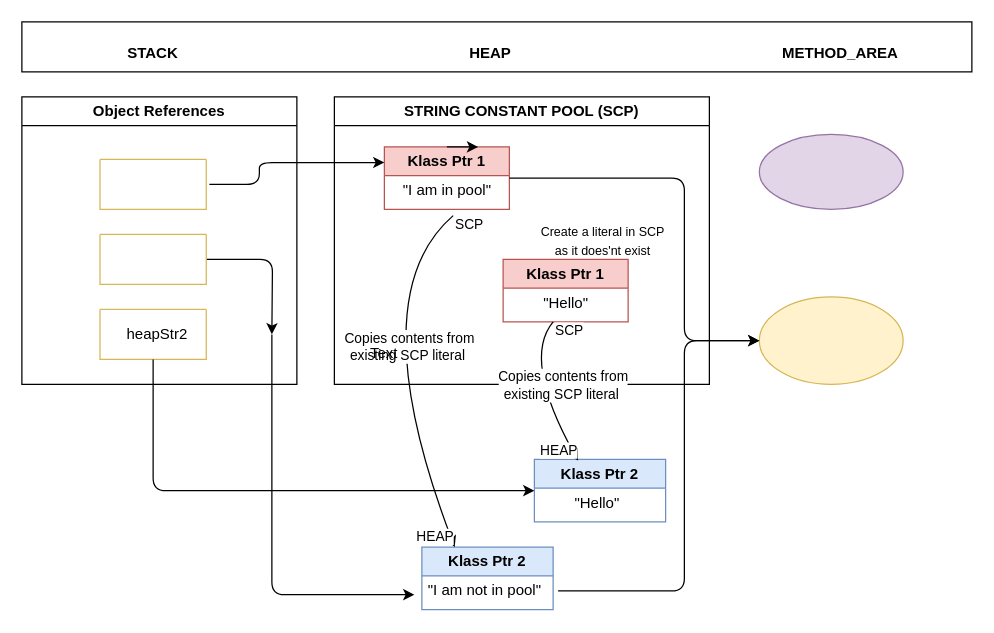
This 994x633 diagram has some shape labels left out. The centre of each missing label's shape, as x and y in pixels:
"heapStr" goes at [152,258].
"load String class metadate" goes at [830,340].
"load StringPool class metadata" goes at [830,171].
"poolStr" goes at [152,183].
